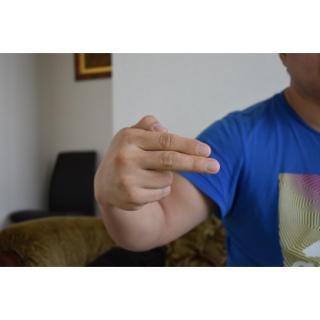AYN: (90, 112, 223, 211)
